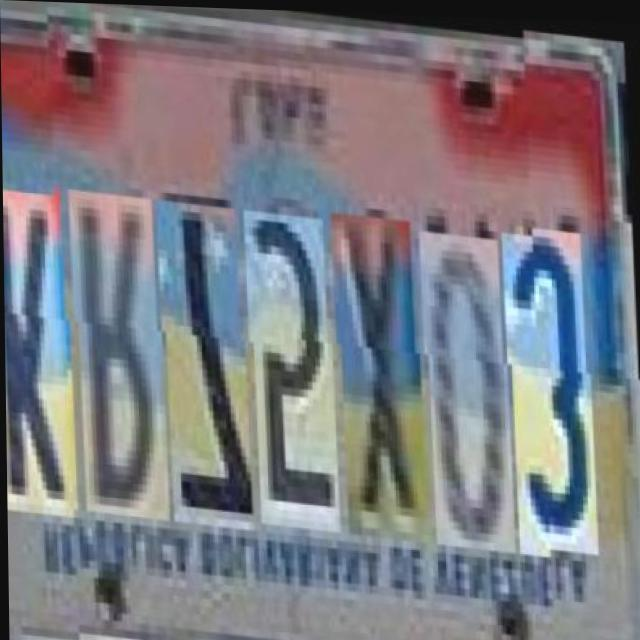3: (508, 220, 599, 547)
5: (249, 203, 340, 524)
7: (162, 196, 253, 523)
k: (2, 180, 78, 508)
o: (425, 220, 516, 541)
r: (75, 188, 169, 516)
x: (337, 203, 428, 531)
